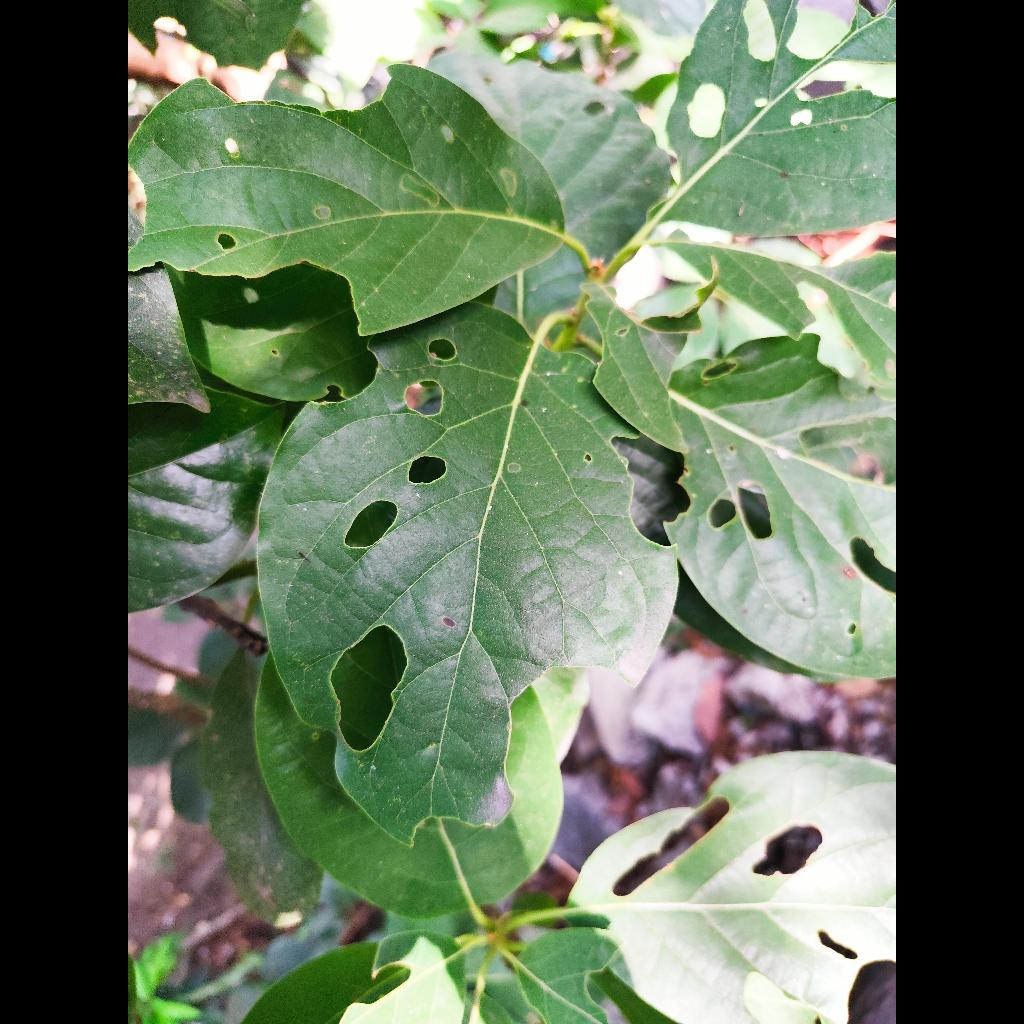Pest Infested: (259, 303, 676, 842), (128, 65, 565, 335)
